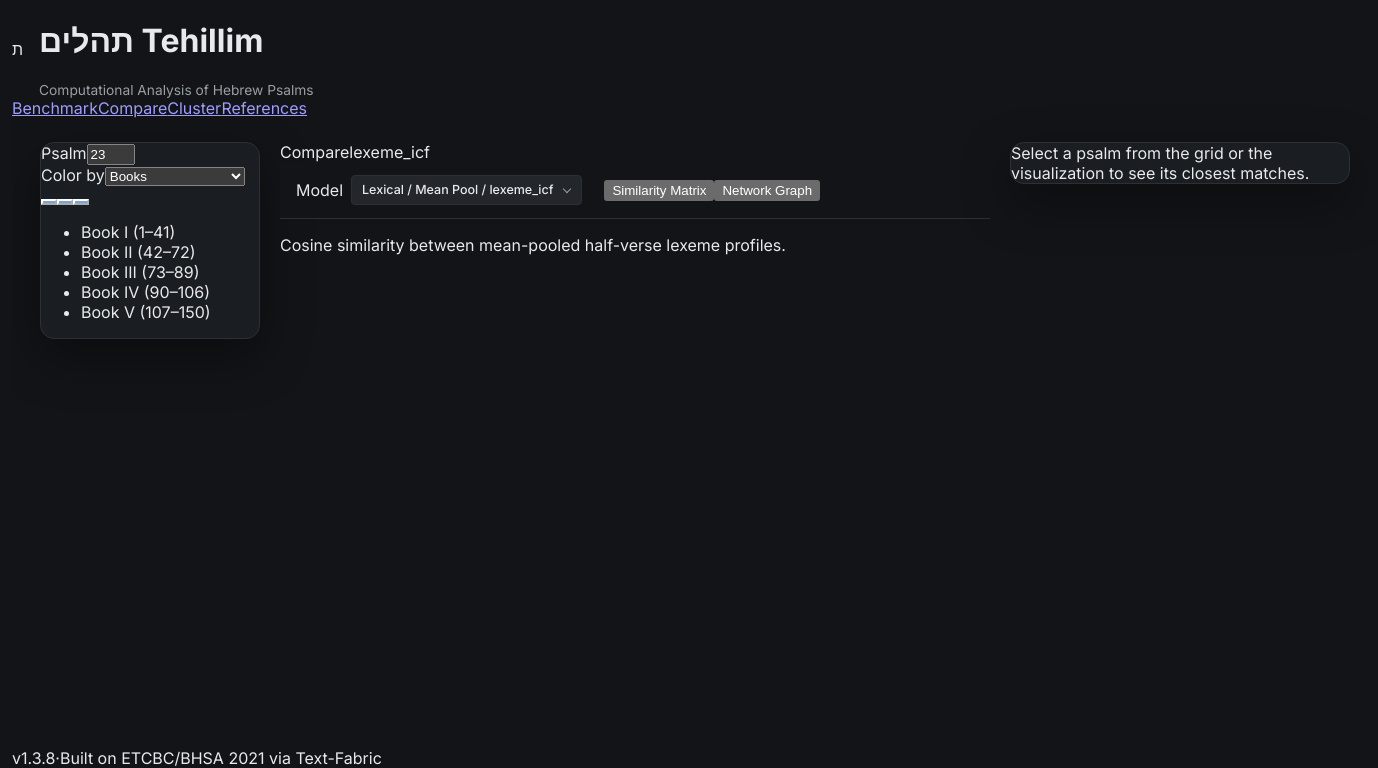
Test: ComparePage › fills the detail panel once a psalm with data is chosen
The width and height of the screenshot is (1378, 768).
Click the option named "Psalm 1". click: (49, 202)
box: [41,199,57,205]
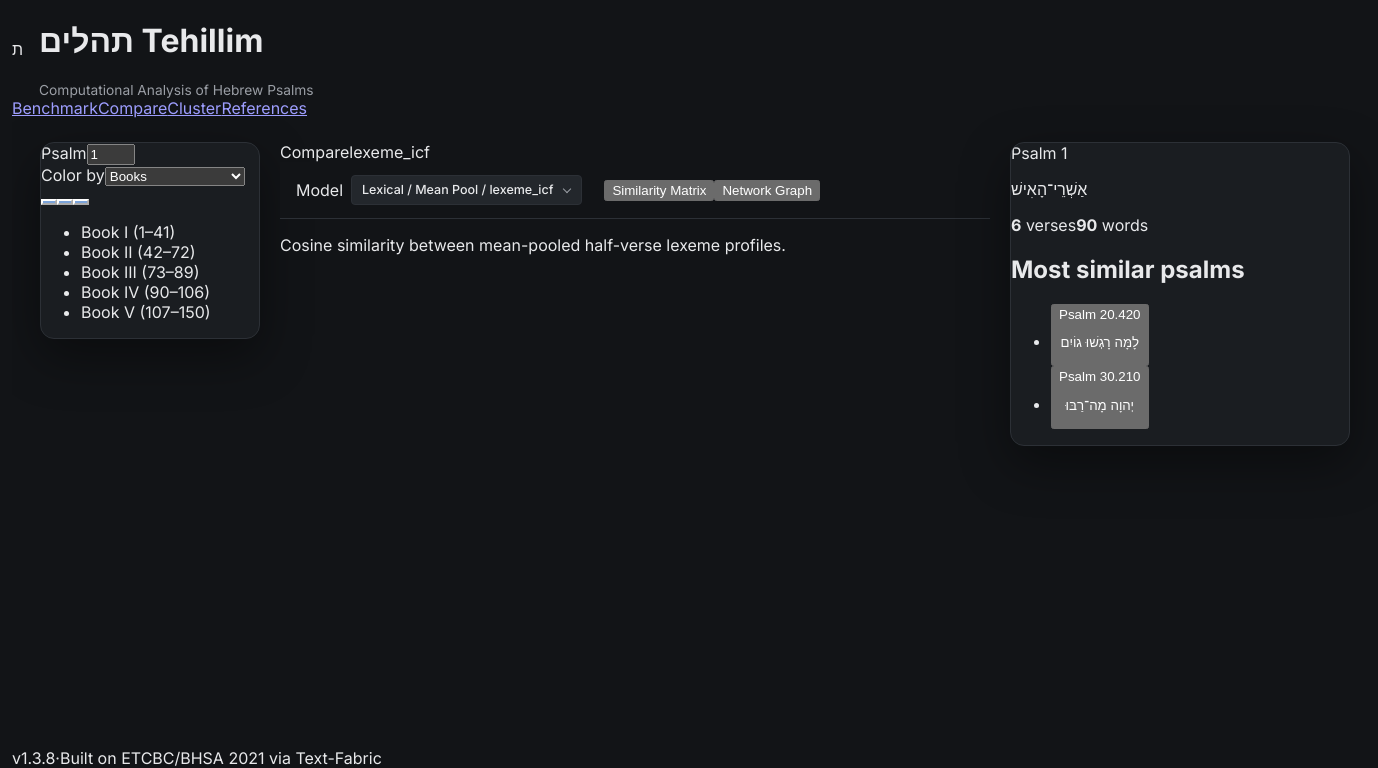
Check: the text "Psalm 1" is shown, box [1011,143,1068,163]
Check: the text "0.420" is shown, box [1107,307,1141,322]
